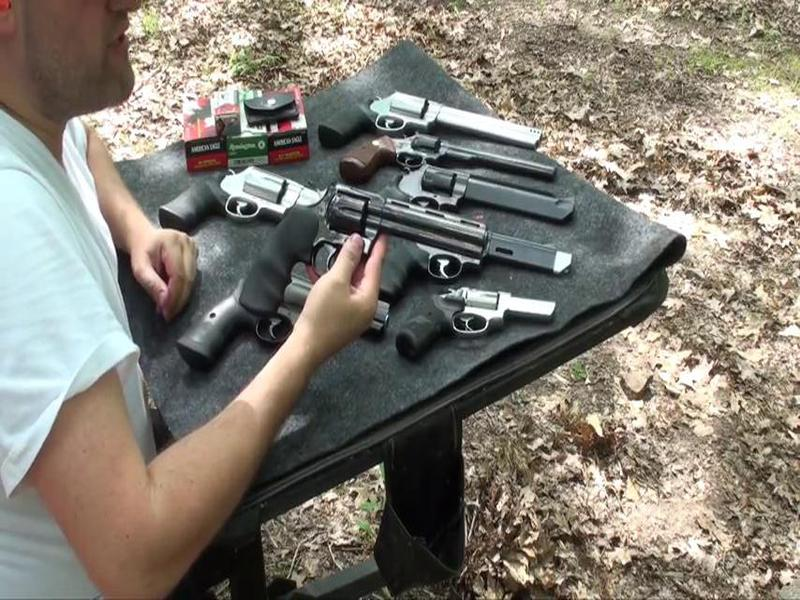Revolver: (250, 175, 464, 341)
